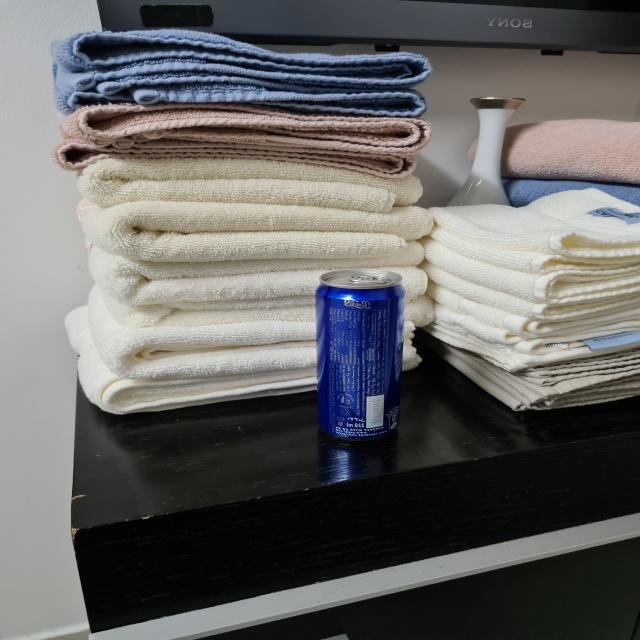can: (312, 265, 411, 448)
